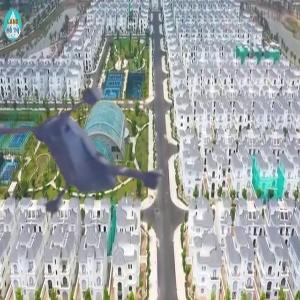drone: (2, 51, 205, 254)
